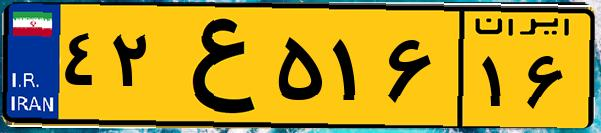1: (330, 28, 385, 110), (475, 38, 525, 113)
2: (110, 28, 158, 98)
4: (57, 26, 110, 100)
5: (270, 28, 330, 110)
6: (385, 28, 445, 110), (525, 38, 570, 115)
ع: (158, 12, 270, 120)
